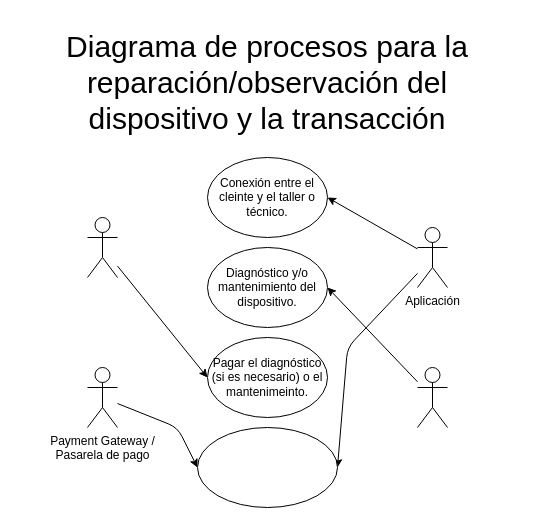
Some shapes in this 534 by 525 pixel diagram are drawn without their labels. Each missing label, with the box of its shape:
Cliente: (86, 216, 118, 278)
Procesar el pago correctamente y cobrar la tarifa por uso de la app: (196, 426, 338, 508)
Taller/Técnico: (416, 366, 448, 428)
